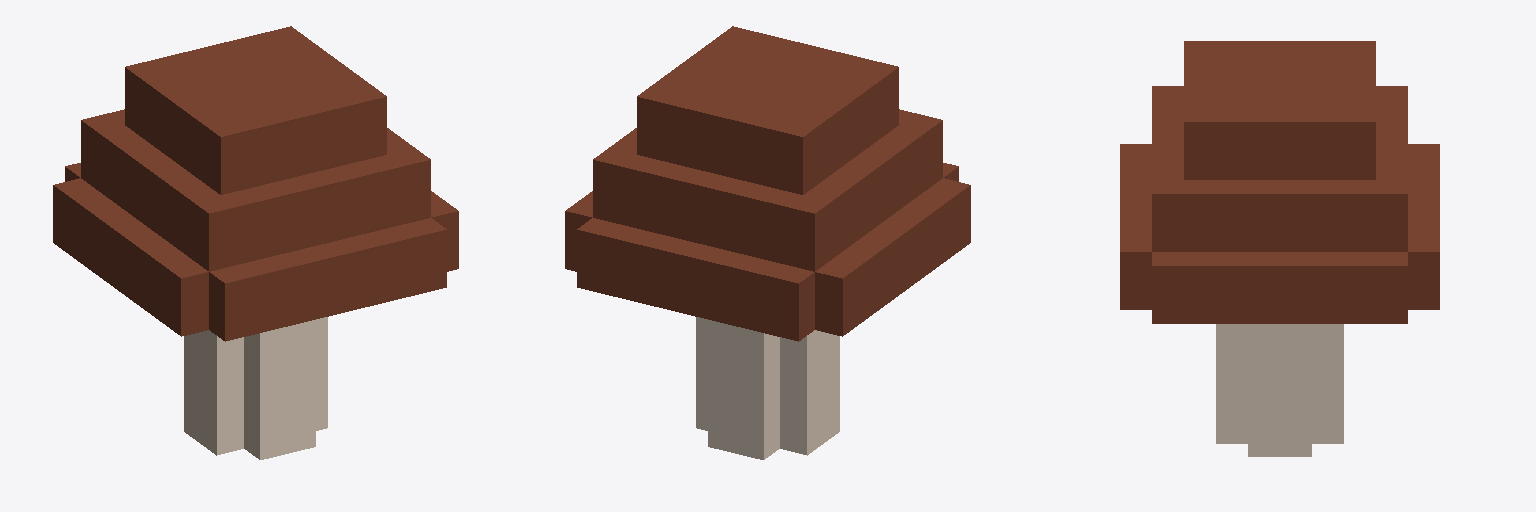
The picture shows the model from 3 angles: view 1: azimuth 30°, elevation 25°; view 2: azimuth 150°, elevation 25°; view 3: azimuth 270°, elevation 25°; orthographic projection.
Visible parts, largest first — view 1: object 1; view 2: object 1; view 3: object 1.
Boxes of the visible parts, x1=… form: object 1: x1=53, y1=26, x2=458, y2=459; object 1: x1=565, y1=26, x2=970, y2=459; object 1: x1=1120, y1=41, x2=1439, y2=456.
Size of the model in its own units: 1 by 1.2 by 1.
Materials: 1 (1 with a texture image).